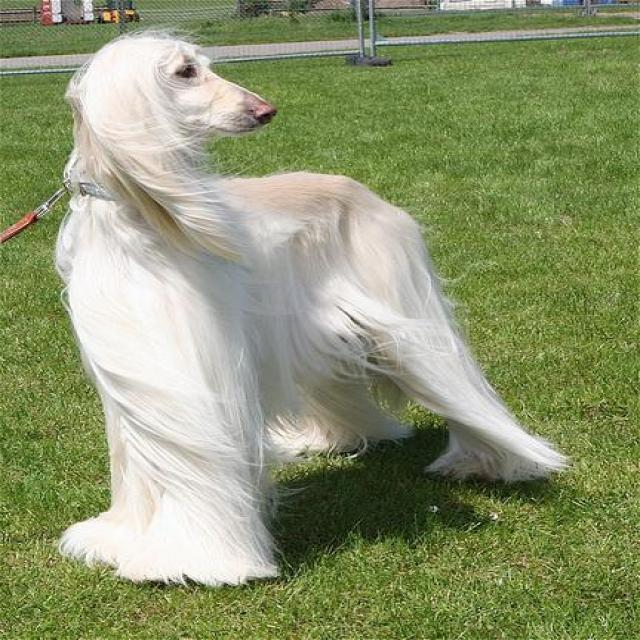afghan_hound: (48, 29, 570, 589)
